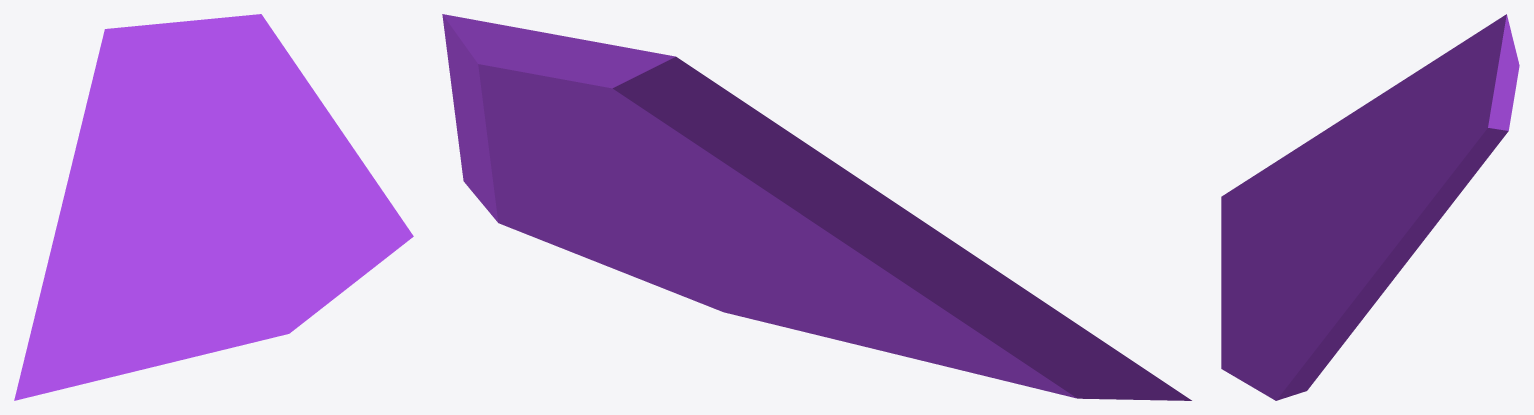
Rendered from Window_26_15_chunks.fbx.
3 renders of one model, left to right at view 1: azimuth 30°, elevation 25°; view 2: azimuth 150°, elevation 25°; view 3: azimuth 270°, elevation 25°, orthographic. The views are drawn at different scales.
Visible parts, largest first — view 1: Window_26_15_0; view 2: Window_26_15_0; view 3: Window_26_15_0.
Part boxes in pixels (x1,y1,x2,y2): Window_26_15_0: (14,14,413,400); Window_26_15_0: (442,14,1191,400); Window_26_15_0: (1221,14,1519,400).
Bounding box in the file's own units: 424 × 232 × 203.
